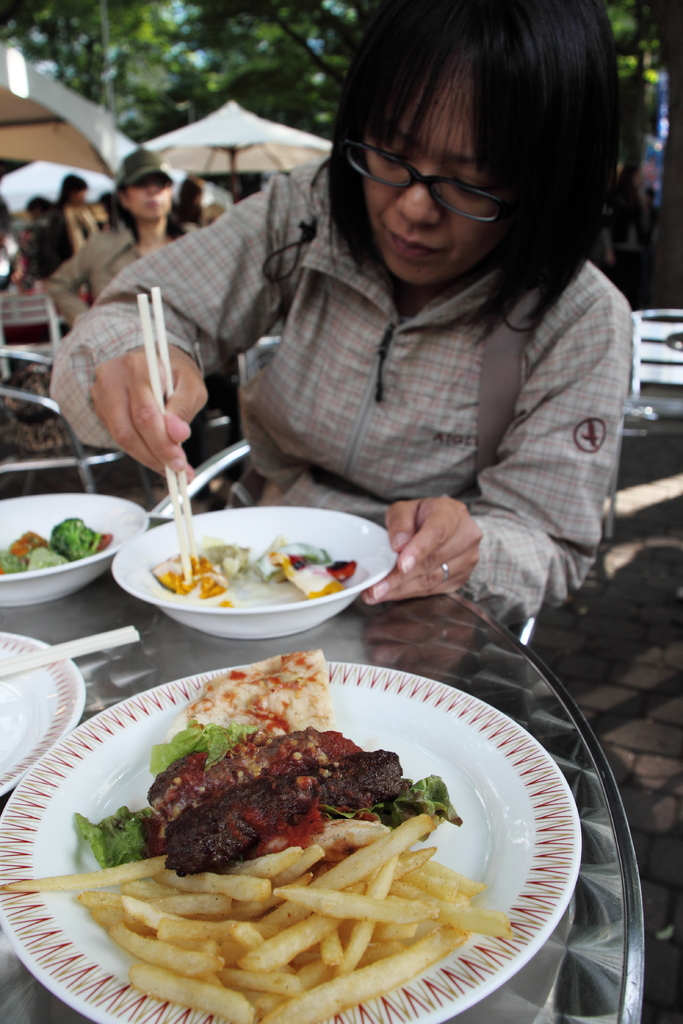French fries: (0, 801, 518, 1023)
